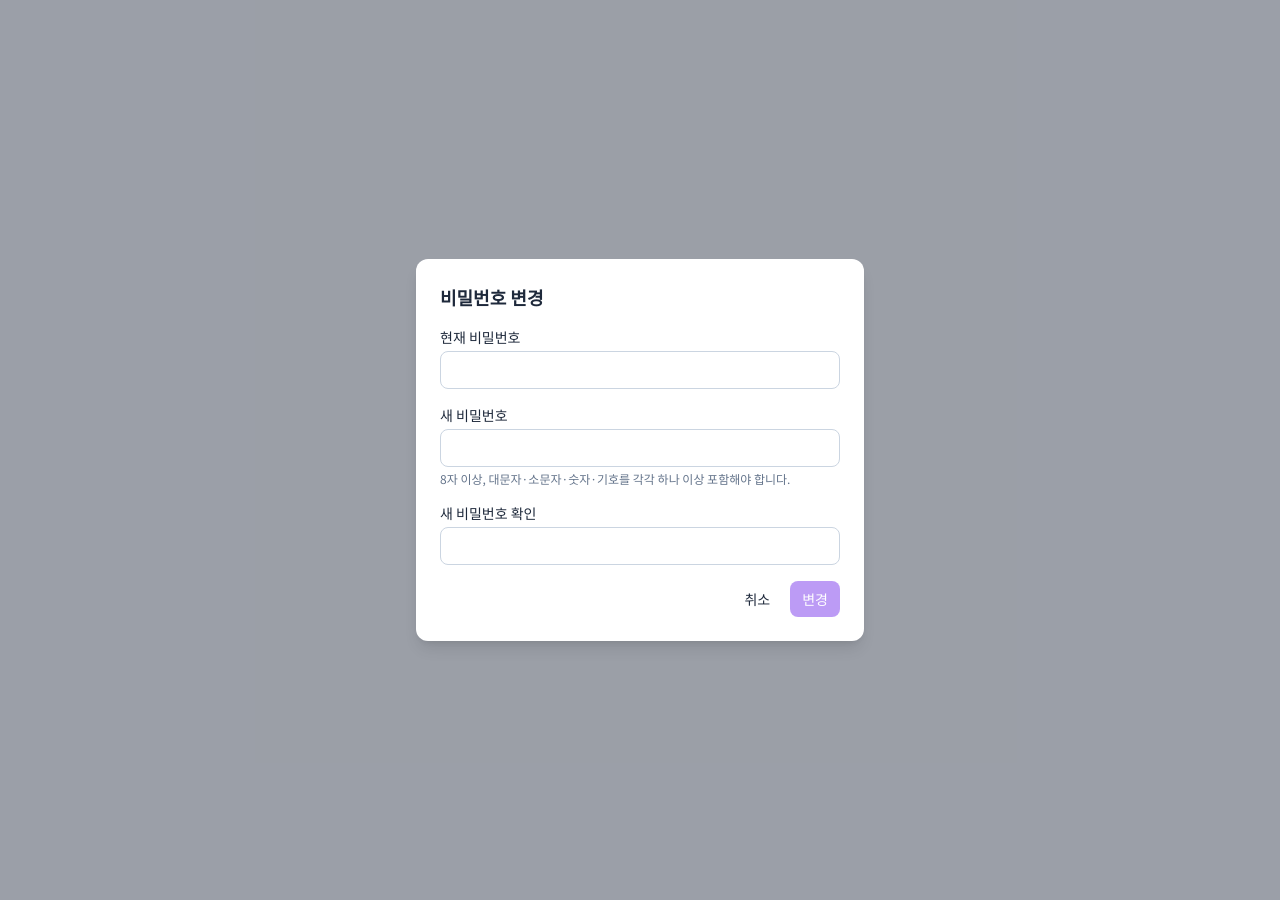
Test case: ChangePasswordModal › never sends a request when the confirmation does not match
The image size is (1280, 900).
Type "OldPass1!" into the password field labelled "현재 비밀번호". click: (640,370)
box: [440,351,840,389]
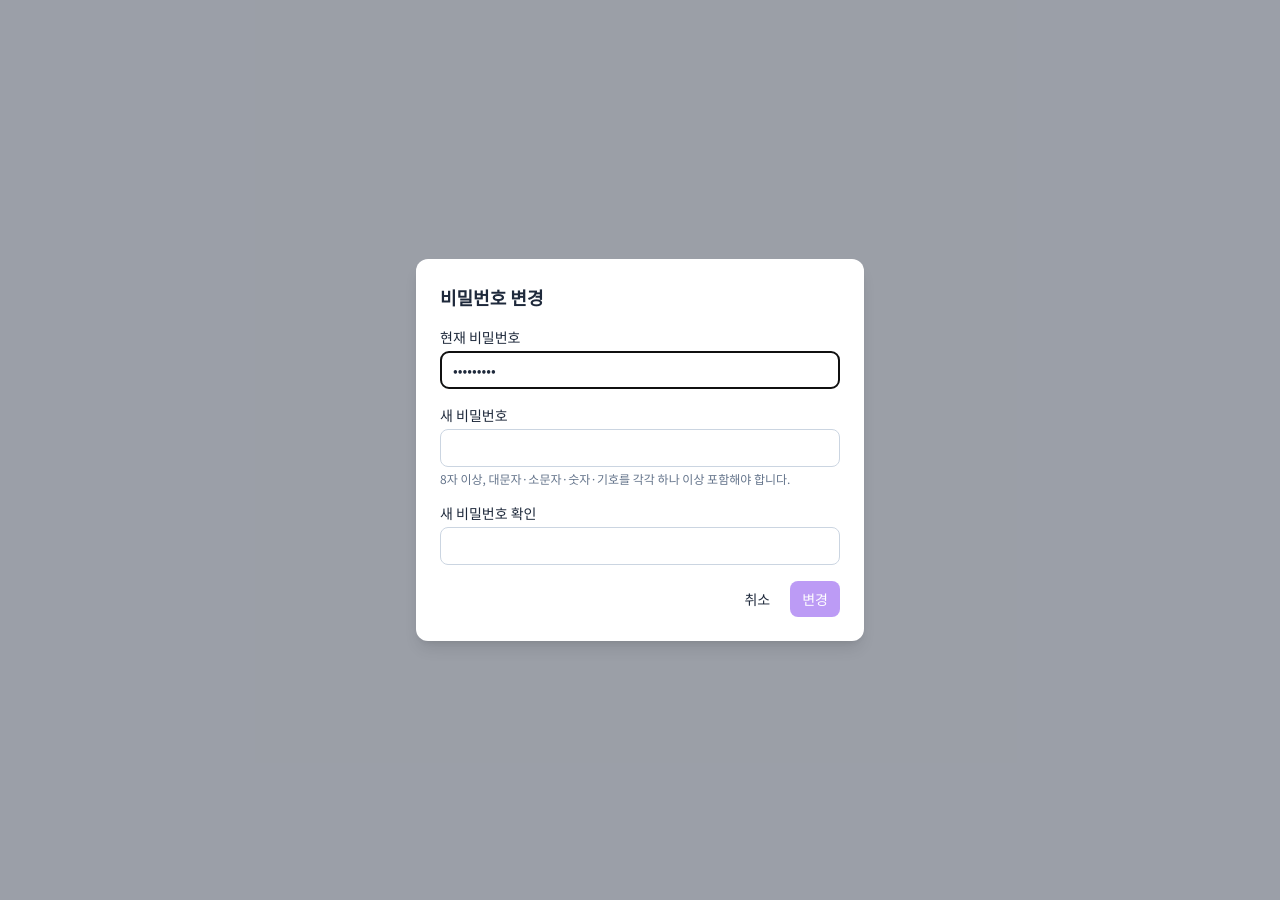
Type "NewPass2@" into the password field labelled "새 비밀번호". click: (640,448)
box: [440,429,840,467]
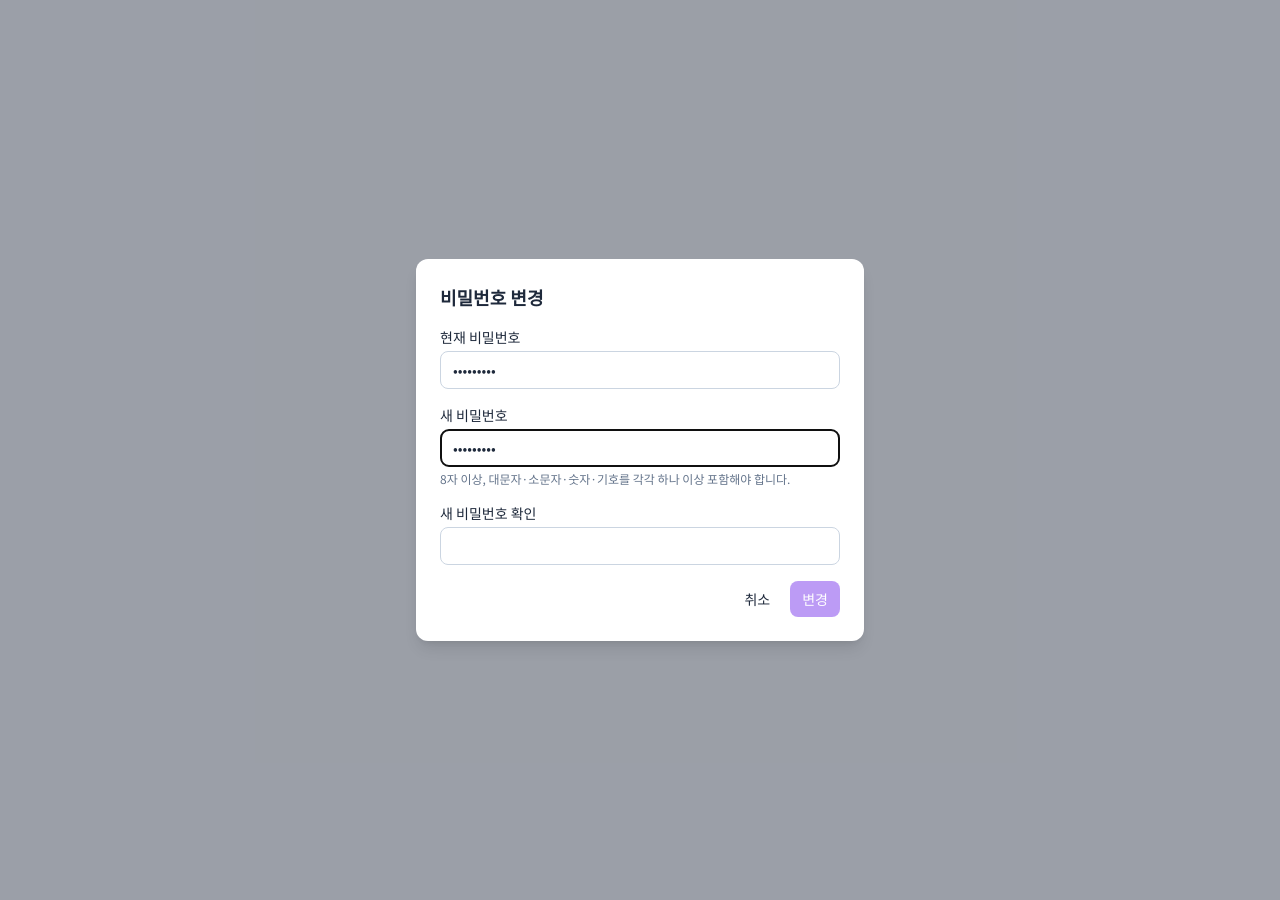
Type "NewPass3#" into the password field labelled "새 비밀번호 확인". click: (640,546)
box: [440,527,840,565]
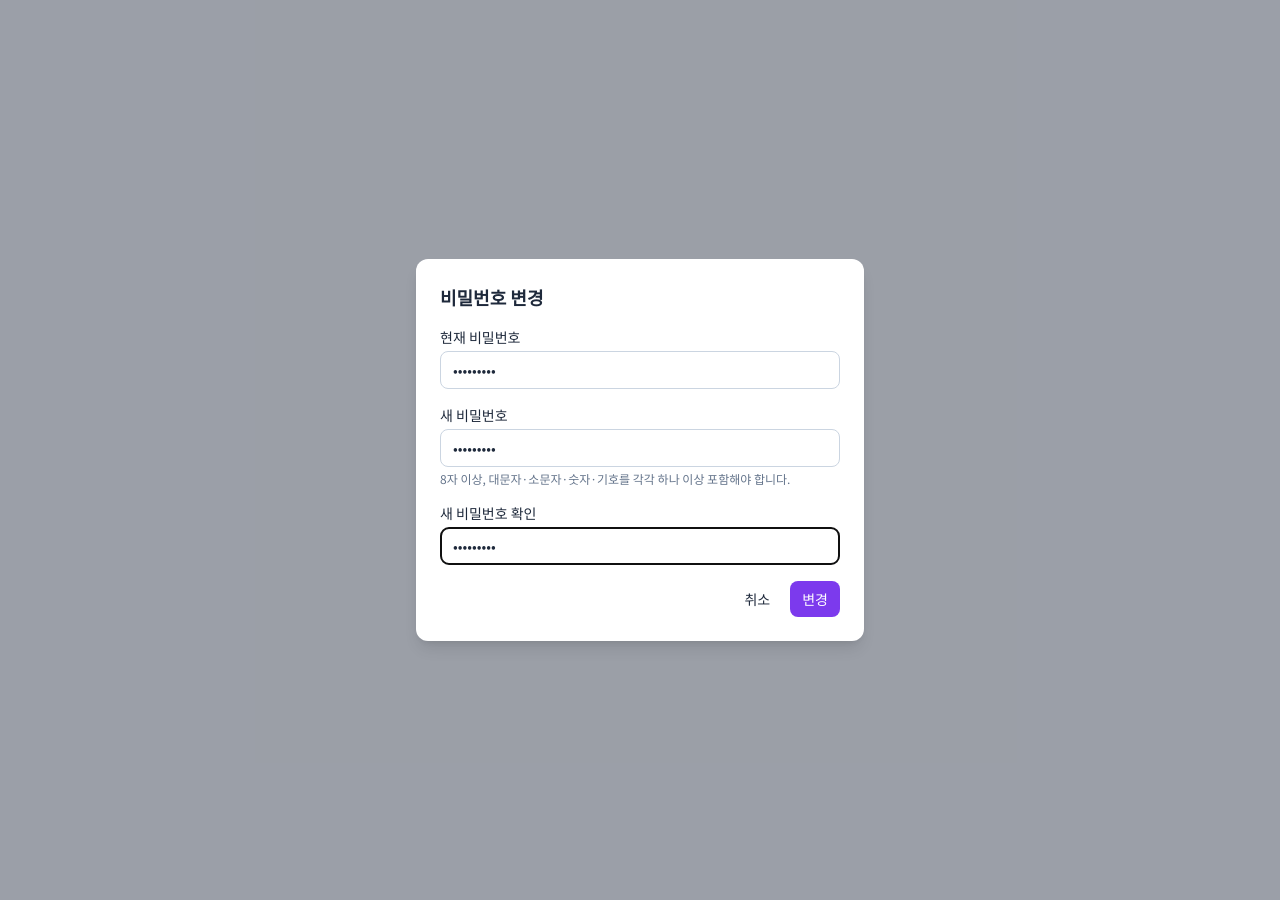
Click the button "변경". click: (815,599)
box: [790,581,840,617]
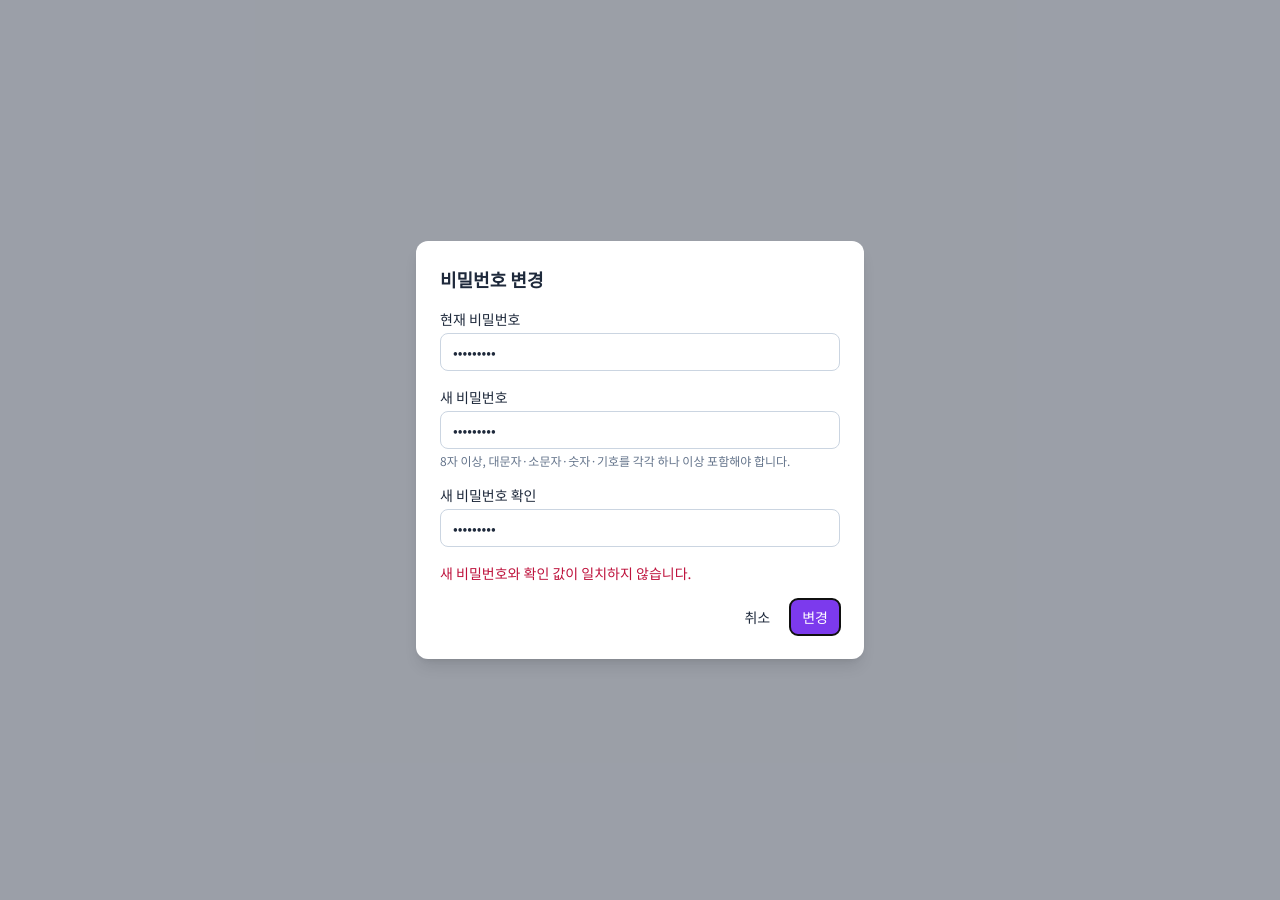
Now the message shows "일치하지 않습니다", box [440,563,691,583]
